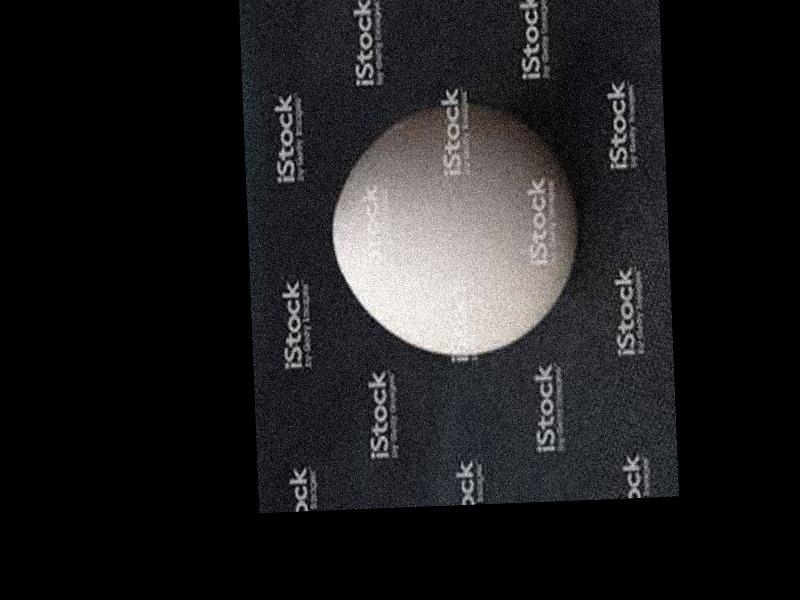Eggs: (327, 99, 583, 360)
